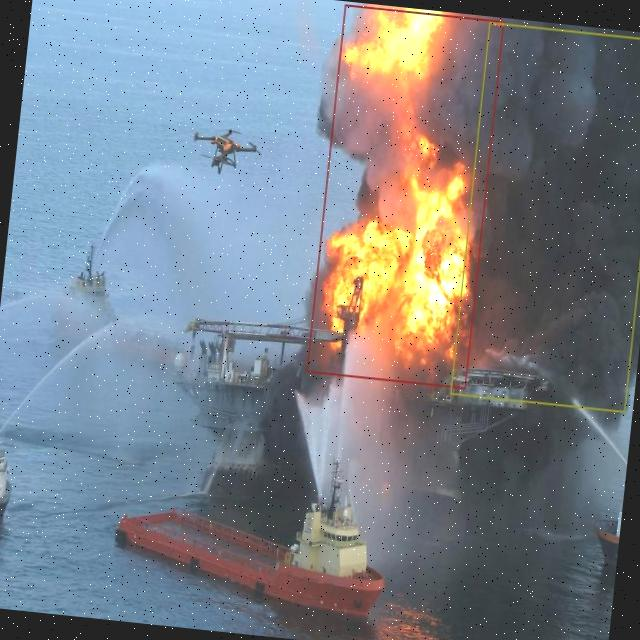fire: (306, 4, 504, 388)
smoke: (450, 21, 640, 412)
